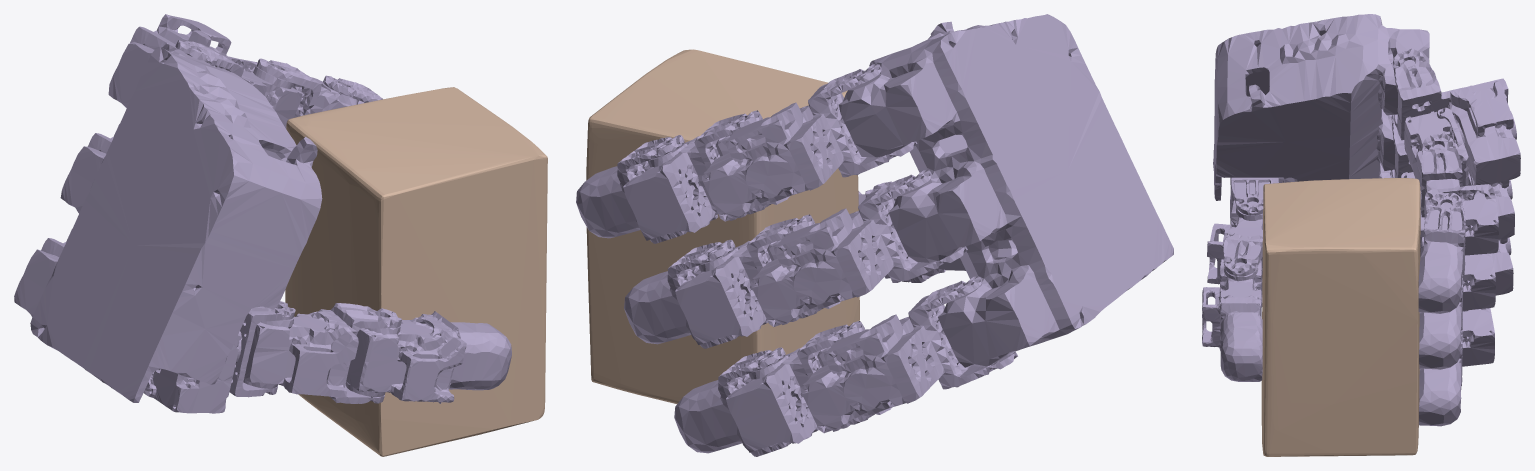
Rendered from case-08.glb.
3 views of the same model, side by side, from view 1: azimuth 30°, elevation 25°; view 2: azimuth 150°, elevation 25°; view 3: azimuth 270°, elevation 25° (orthographic). The views are drawn at different scales.
Visible parts, largest first — view 1: world, surface.obj; view 2: world, surface.obj; view 3: world, surface.obj.
Boxes of the visible parts, bbox=[...] form: world: bbox=[14, 14, 511, 413]; surface.obj: bbox=[285, 87, 547, 456]; world: bbox=[576, 14, 1173, 456]; surface.obj: bbox=[586, 49, 859, 403]; world: bbox=[1202, 14, 1520, 426]; surface.obj: bbox=[1261, 178, 1420, 456].
Bounding box in the file's own units: 0.2045 × 0.1795 × 0.1544.
